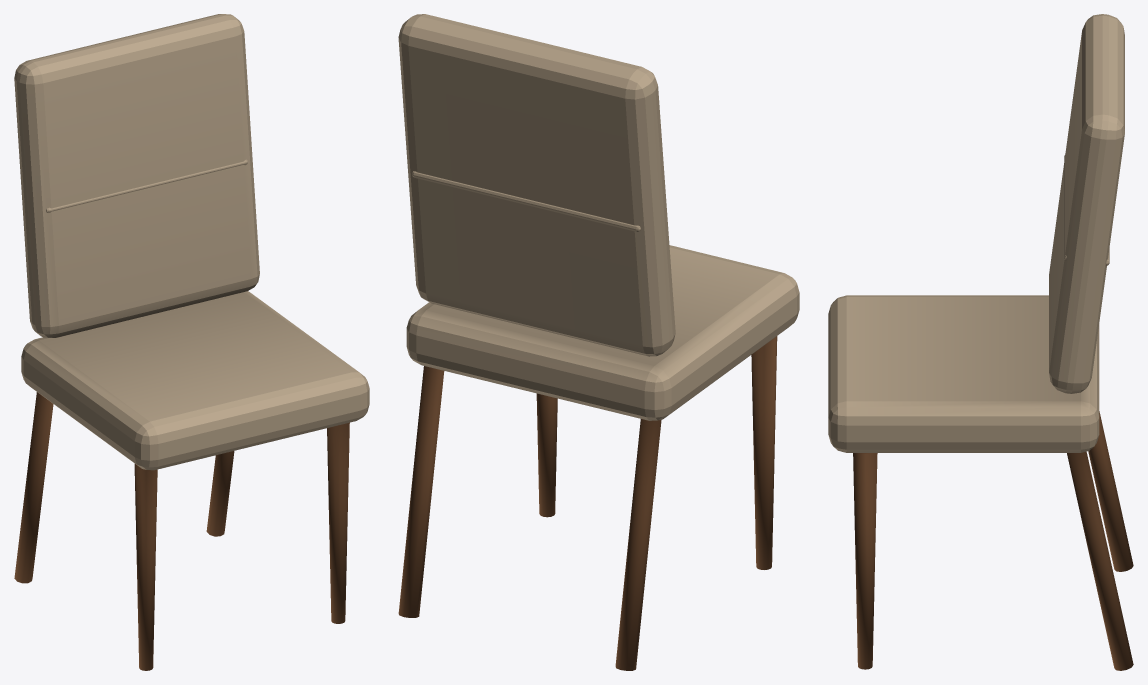
The model's file is chairUpholstered.glb.
3 renders of one model, left to right at view 1: azimuth 30°, elevation 25°; view 2: azimuth 150°, elevation 25°; view 3: azimuth 270°, elevation 25°, orthographic. The views are drawn at different scales.
Parts seen in each view (by area): view 1: chairUpholstered; view 2: chairUpholstered; view 3: chairUpholstered.
Boxes of the visible parts, x1,y1,x2,y2 form: chairUpholstered: (14,14,369,670); chairUpholstered: (398,14,799,670); chairUpholstered: (828,14,1133,670).
Size of the model in its own units: 0.46 by 0.9919 by 0.4957.
